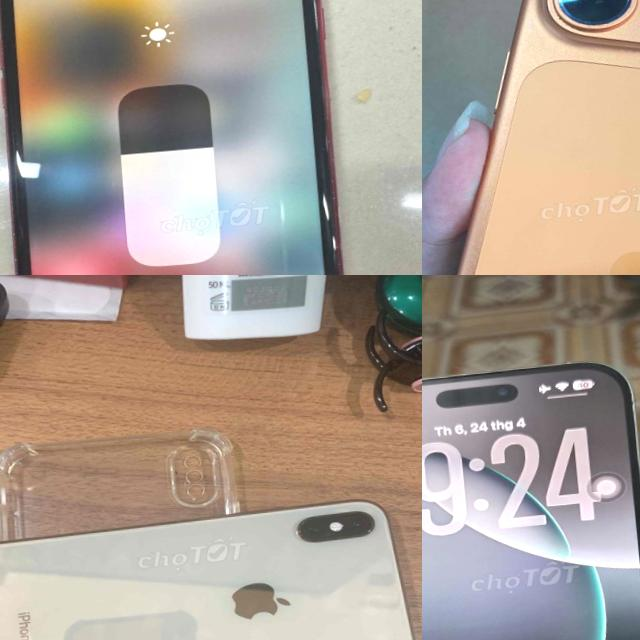gen_16: (422, 362, 640, 640)
gen_17: (422, 0, 640, 275)
gen_7_8: (0, 0, 368, 275)
gen_x_xs: (0, 501, 412, 640)
